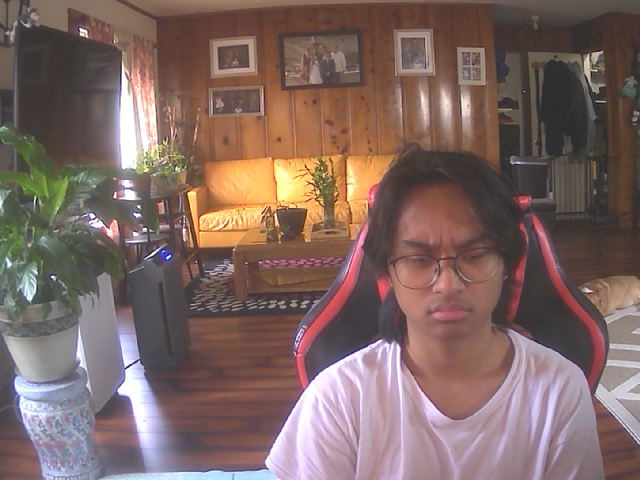anger: (386, 160, 516, 342)
